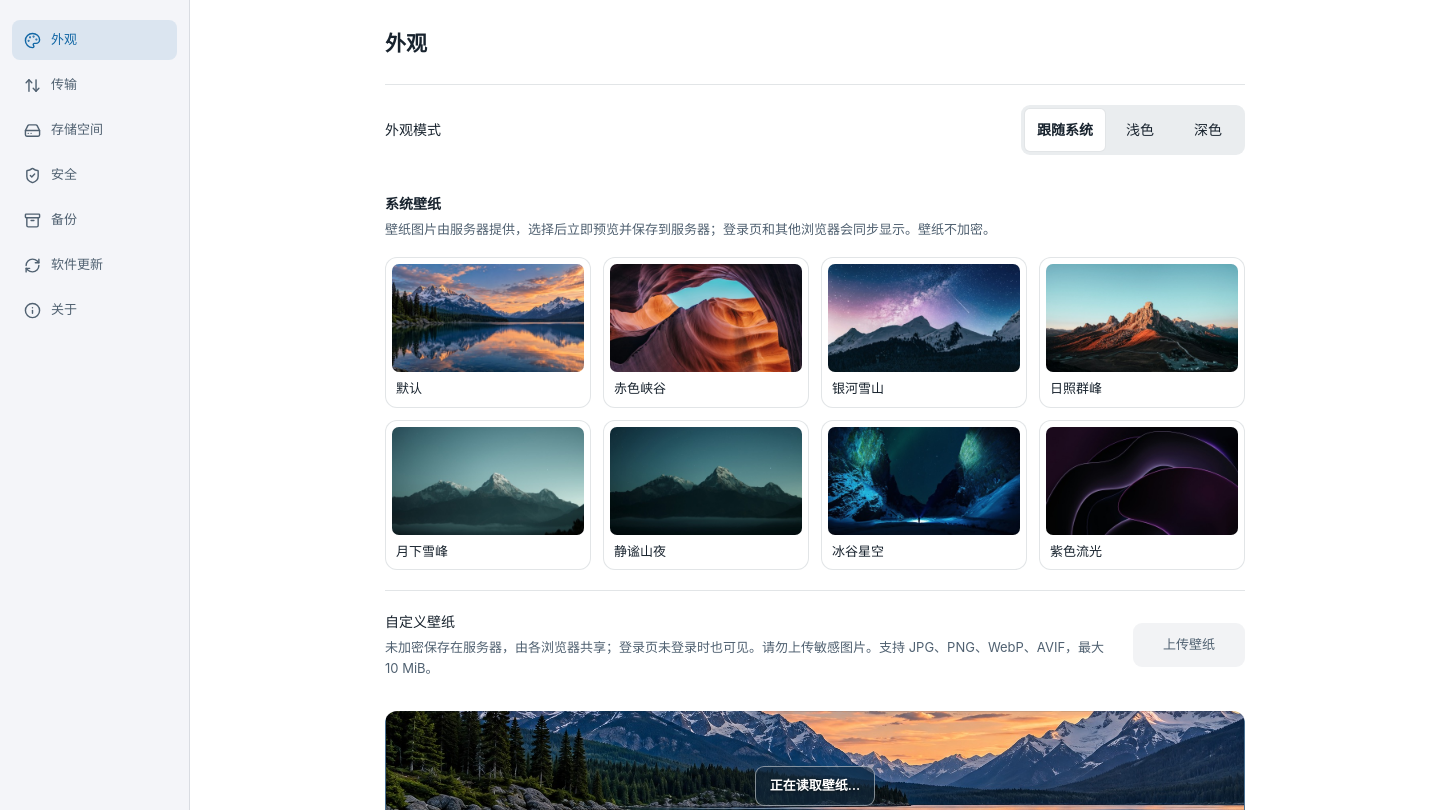
Test: confirms a backup download before asking the server to stream it
This screenshot has width=1440, height=810.
Click the button "备份" at (94, 220), box [12,200,177,240]
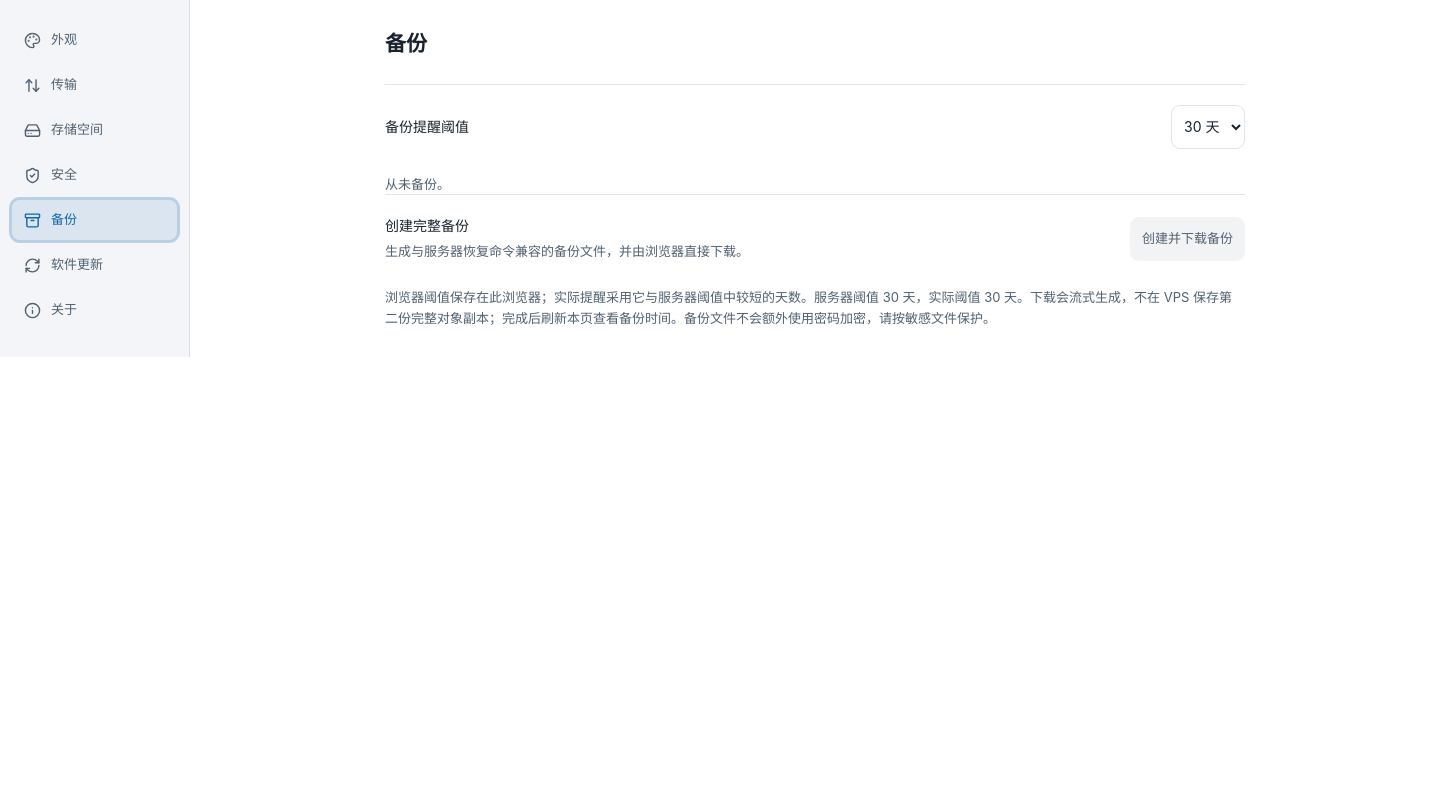
Click the button "创建并下载备份" at (1188, 239), box [1130,217,1245,261]
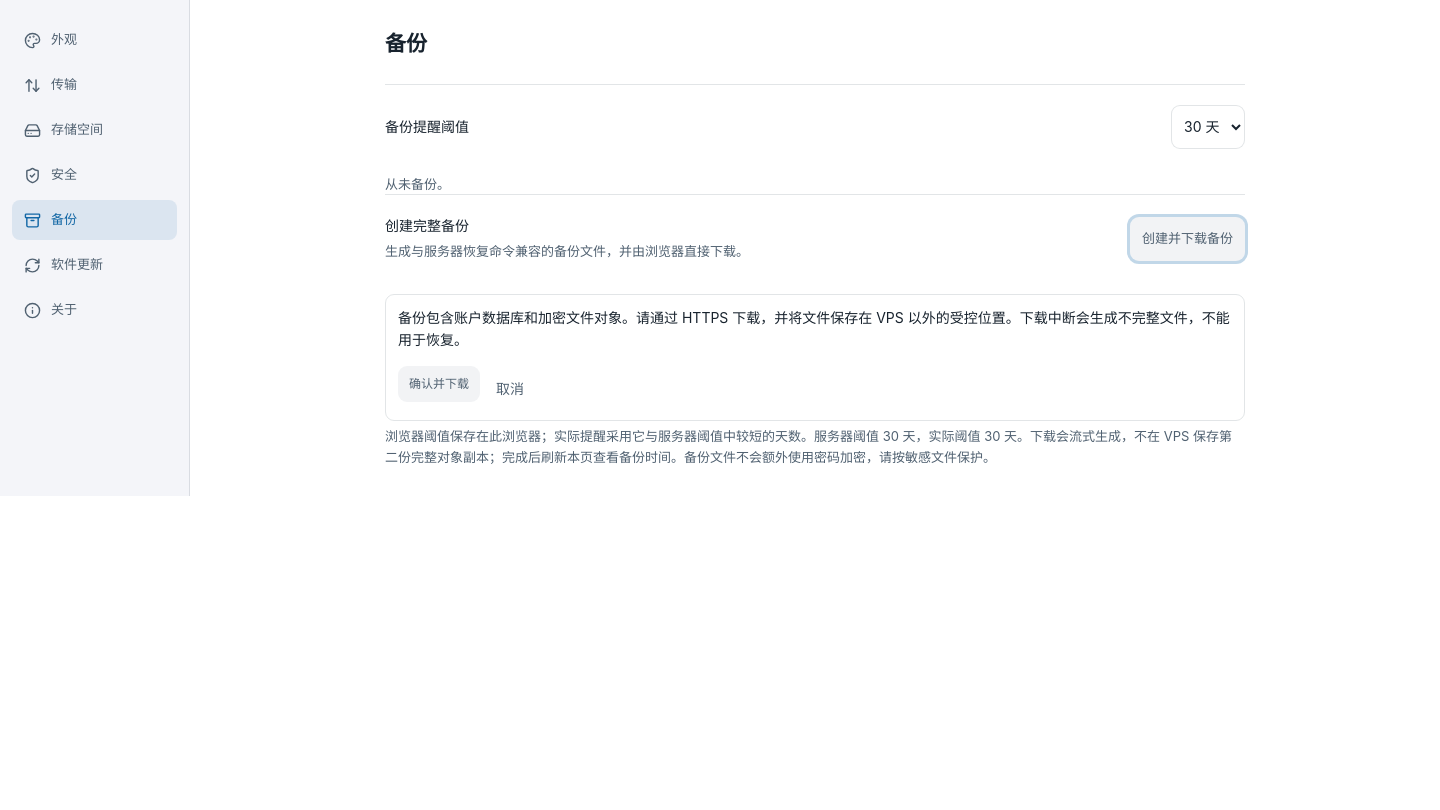
Expected: the element named "确认创建备份" is shown, [385,294,1245,422]
Expected: the text "账户数据库和加密文件对象" is shown, [398,309,1230,348]
Click the button "确认并下载" at (439, 384), box [398,366,480,402]
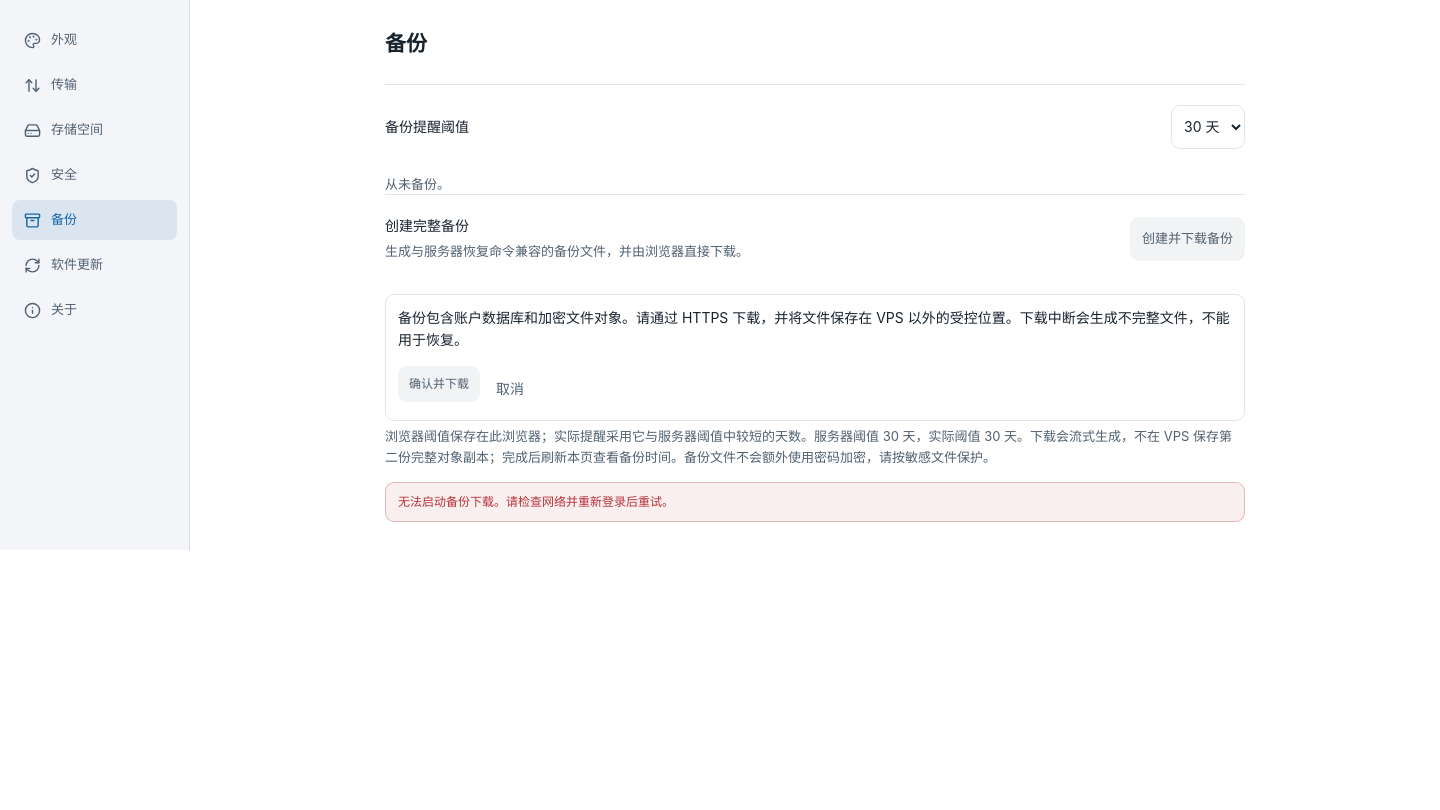
Expected: the message "无法启动备份下载。请检查网络并重新登录后重试。" is shown, [385,482,1245,522]
